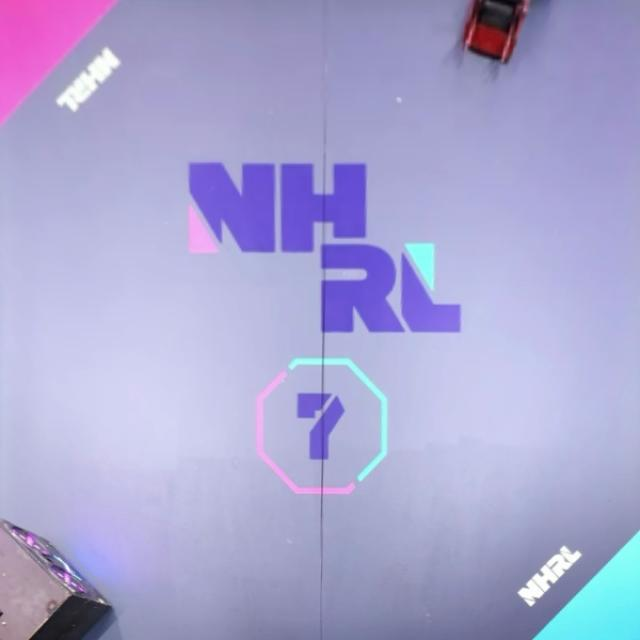housebot: (0, 517, 114, 640)
robot: (458, 0, 531, 65)
